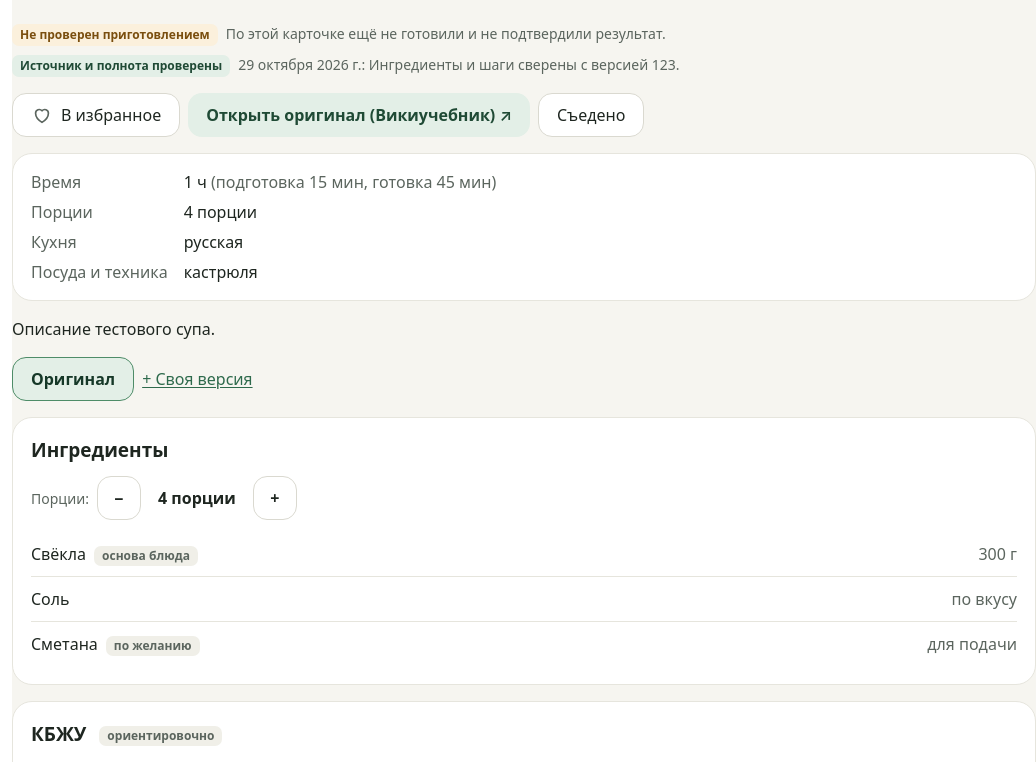
Test: «Съедено» в рецепте › несохранённую новую версию записать нельзя
The width and height of the screenshot is (1036, 762).
(page scrolled)
Click the button "+ Своя версия" at (197, 379), box [142,357,252,401]
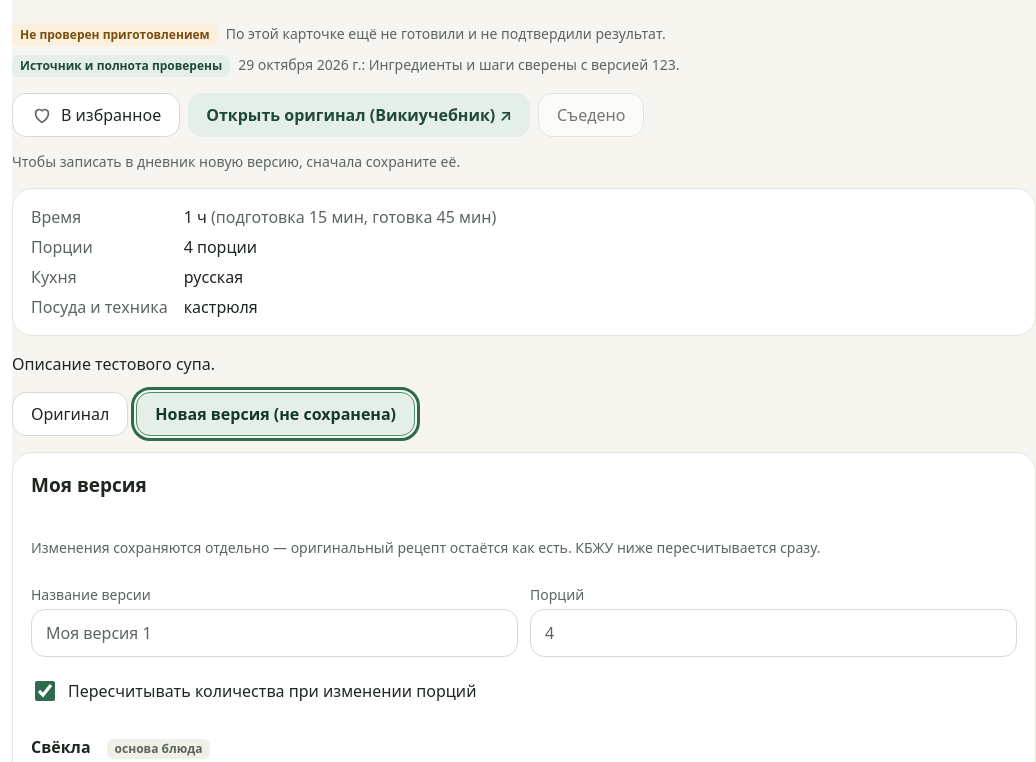
Expected: the button "Съедено" is disabled, [538,93,644,137]
Expected: the text "Чтобы записать в дневник новую версию, сначала сохраните её." is shown, [12,152,460,171]
